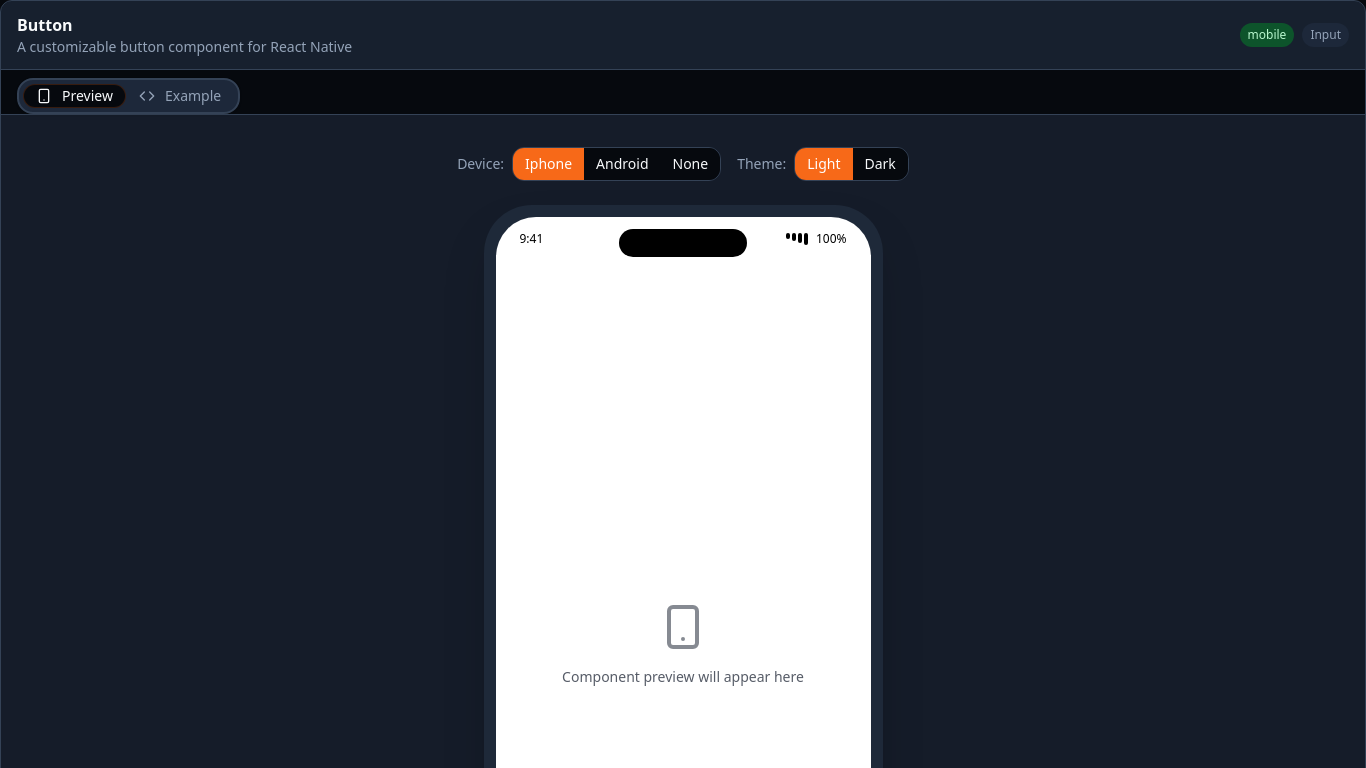
MobileComponentPreview › switches to code tab when clicked
The width and height of the screenshot is (1366, 768).
Click the tab "Example": (180, 96) [126, 84, 234, 108]
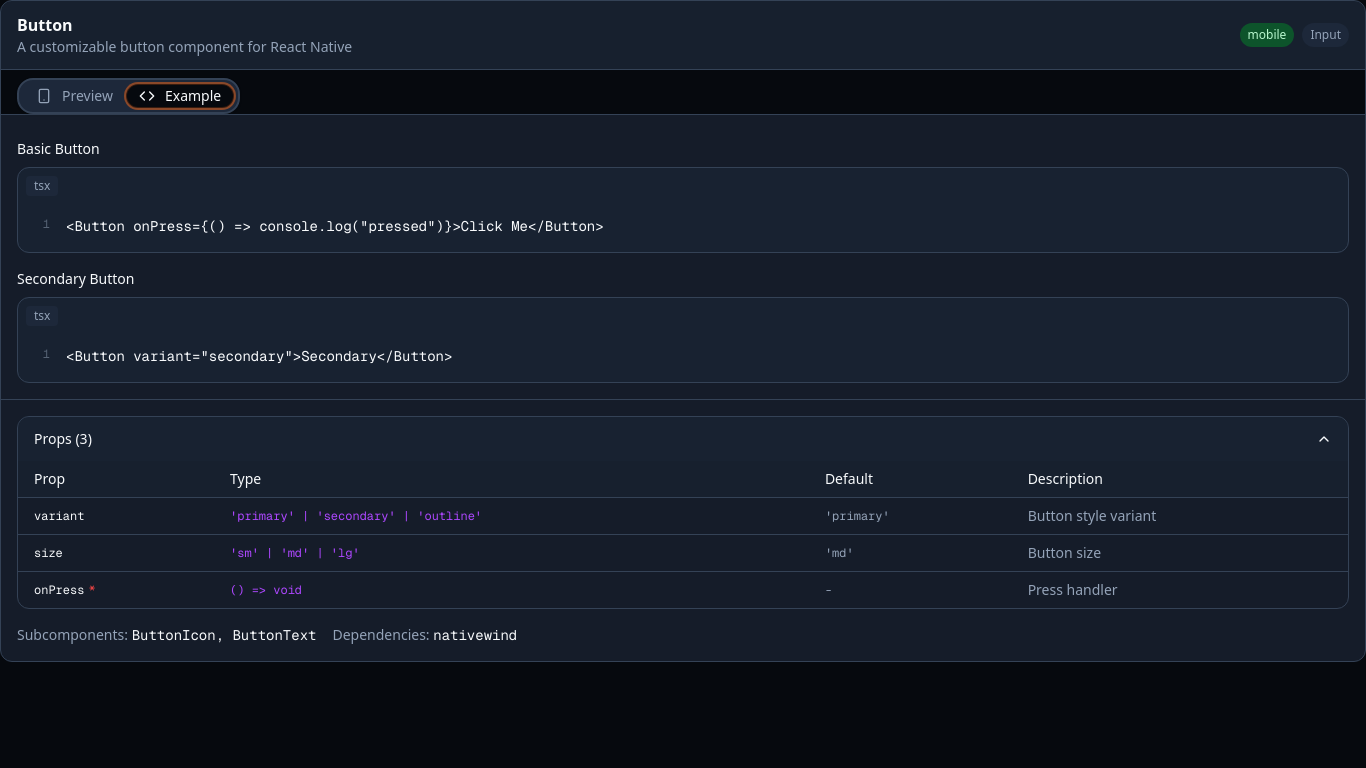
Expected: the heading "Basic Button" is shown, [17, 139, 100, 158]
